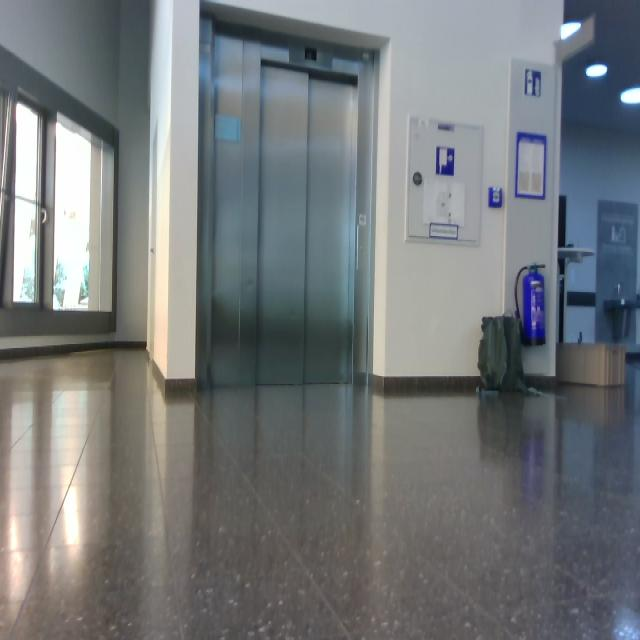door: (196, 16, 379, 389), (256, 59, 357, 385)
fire extinguisher: (514, 263, 545, 345)
light bulb: (559, 20, 581, 40), (619, 85, 639, 104), (584, 63, 607, 77), (40, 206, 46, 222)
pillar: (146, 0, 200, 381)
tiled floor: (1, 346, 638, 638)
